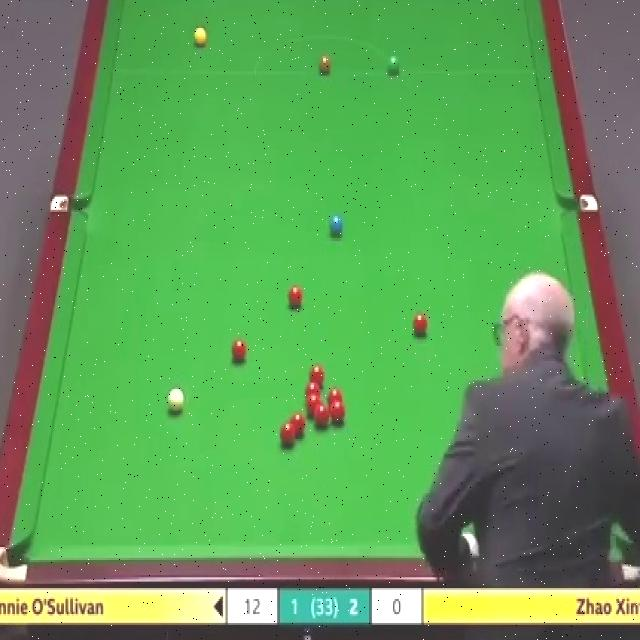blue-ball: (328, 213, 344, 236)
brown-ball: (318, 54, 332, 76)
green-ball: (387, 56, 400, 74)
pink-ball: (549, 337, 566, 365)
red-ball: (230, 337, 248, 366), (278, 422, 296, 449), (290, 414, 308, 440), (329, 400, 346, 427), (530, 364, 548, 389), (561, 378, 579, 402), (413, 311, 429, 338), (287, 286, 304, 309), (314, 403, 329, 428), (308, 364, 326, 382), (306, 396, 321, 416), (305, 381, 320, 398), (328, 390, 342, 404)
white-ball: (167, 388, 185, 415)
yellow-ball: (194, 28, 208, 50)
